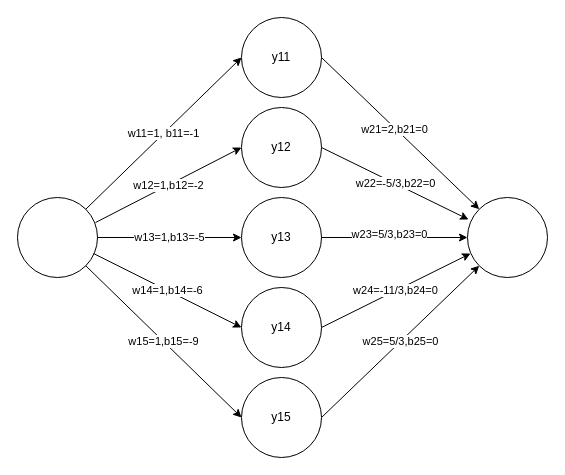
The diagram is 565 pixels wide and 475 high, and some of its shapes have lost their labels. Each missing label, with the box of its shape:
y0: (16, 196, 98, 278)
y2: (466, 196, 548, 278)
